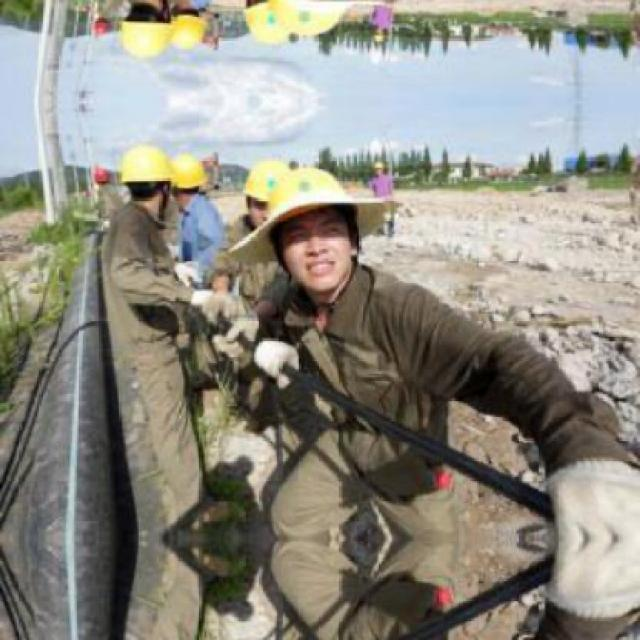helmet: (254, 160, 369, 291), (254, 0, 371, 42), (121, 138, 174, 212), (120, 0, 174, 63), (243, 157, 286, 232), (168, 0, 209, 51), (169, 151, 209, 203), (242, 0, 286, 45)
